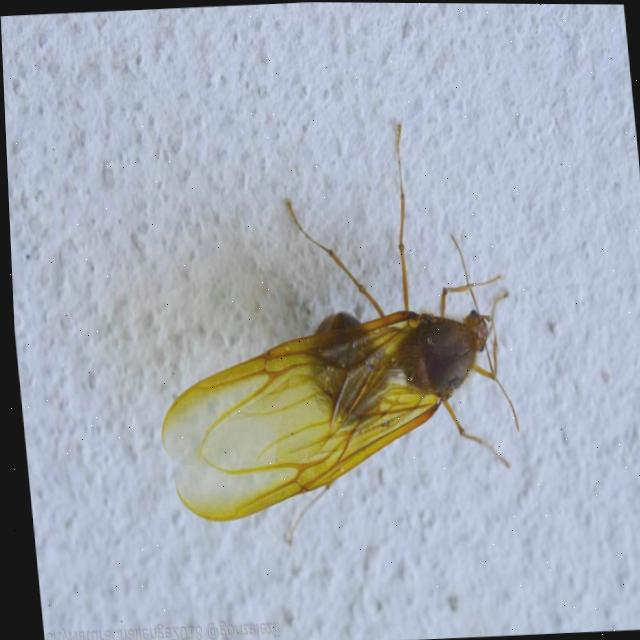Alive-Male-Alate: (131, 115, 530, 558)
